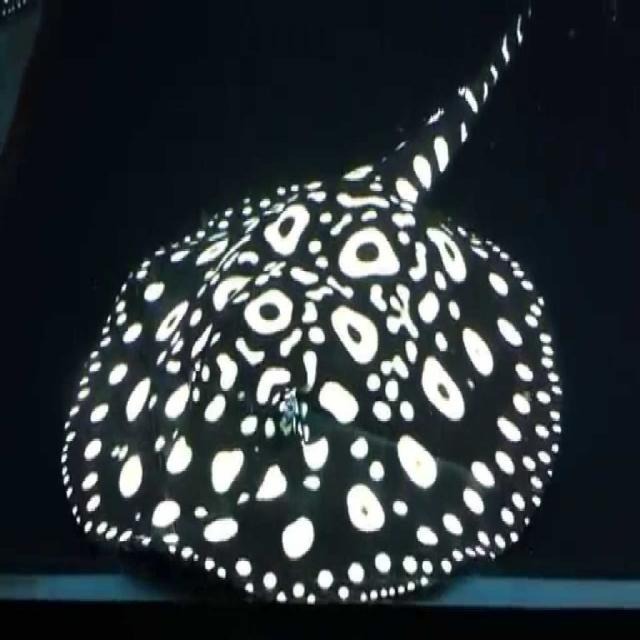black-diamond-sting-ray: (28, 3, 586, 640)
